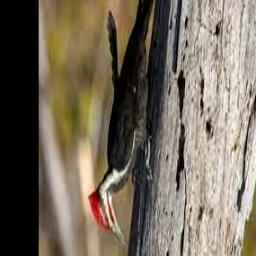Woodpecker: (88, 0, 162, 250)
